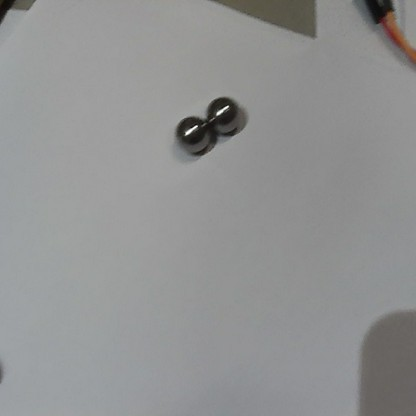ironball: (170, 115, 216, 155), (206, 95, 243, 134)
